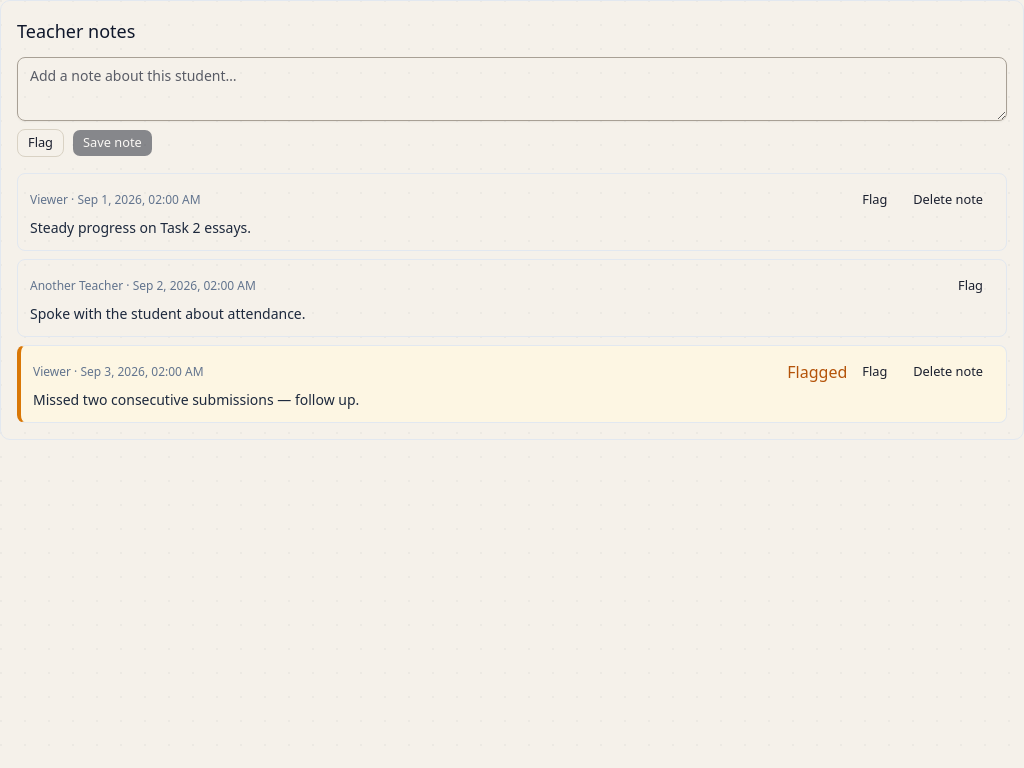
Test: StudentNotesPanel — AC16 composer › P0 submitting creates a note (POST 201), it appears, and the composer clears
This screenshot has width=1024, height=768.
Type "brand new note" into the text box labelled "Add a note about this student…" at (512, 89), box x1=17 y1=57 x2=1007 y2=121
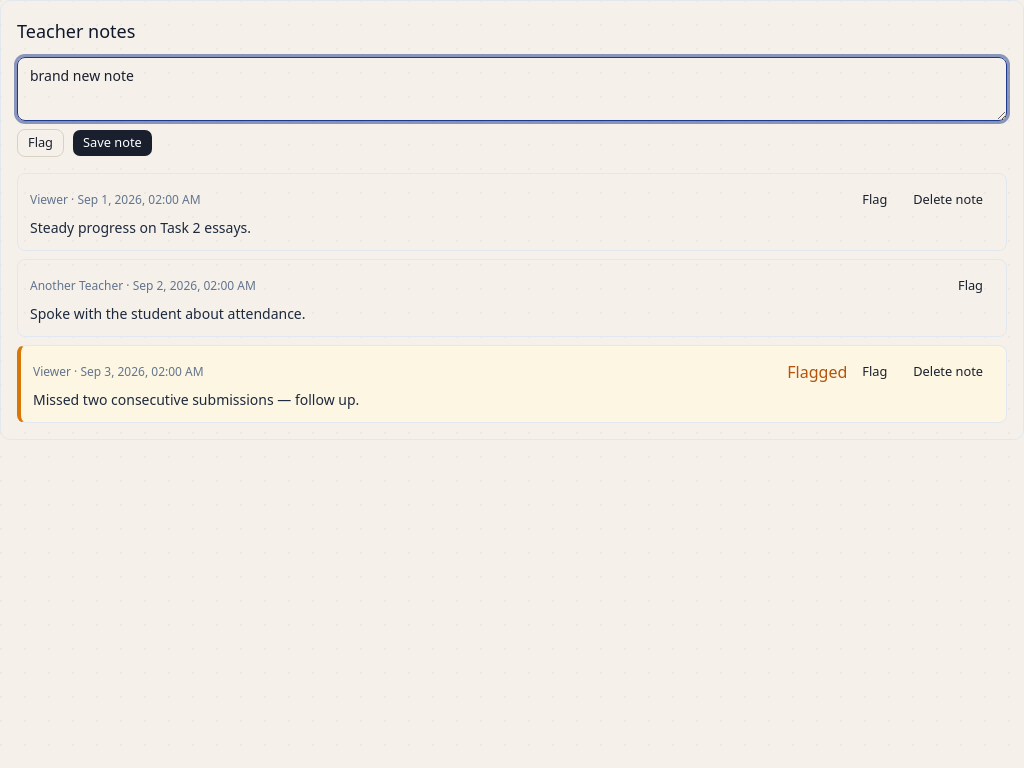
Click the button "Save note" at (112, 143), box x1=72 y1=129 x2=153 y2=157
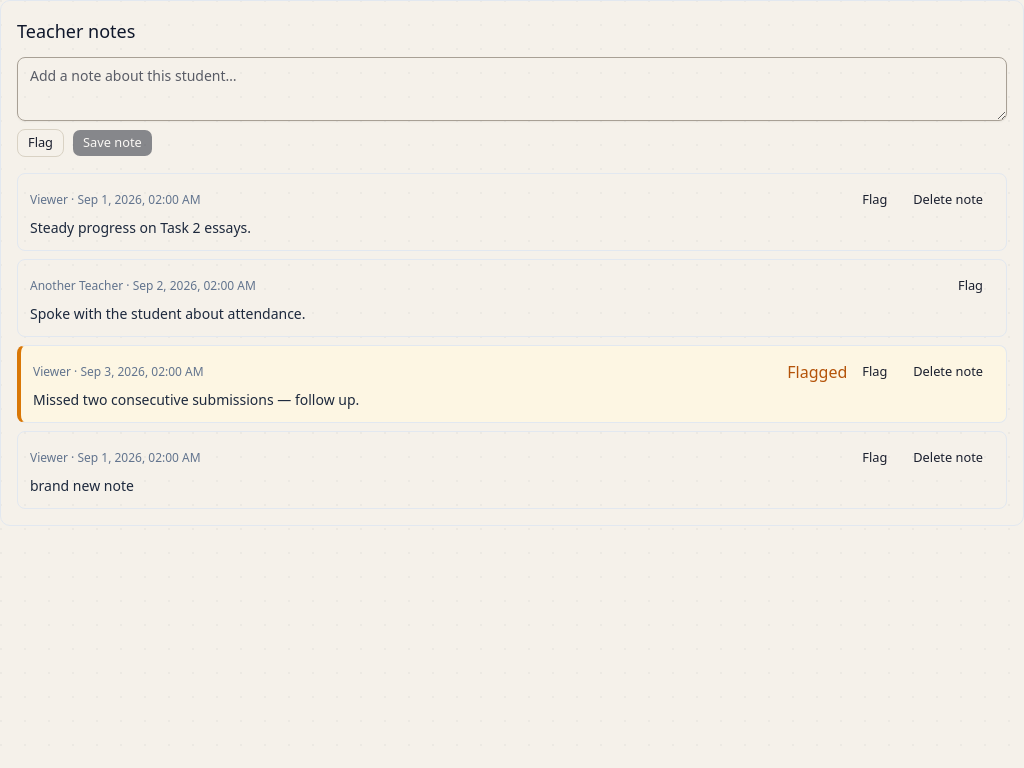
Check: the list item with test id "student-note-note-created" is shown, box x1=17 y1=431 x2=1007 y2=509
Check: the text box labelled "Add a note about this student…" is empty, box x1=17 y1=57 x2=1007 y2=121
